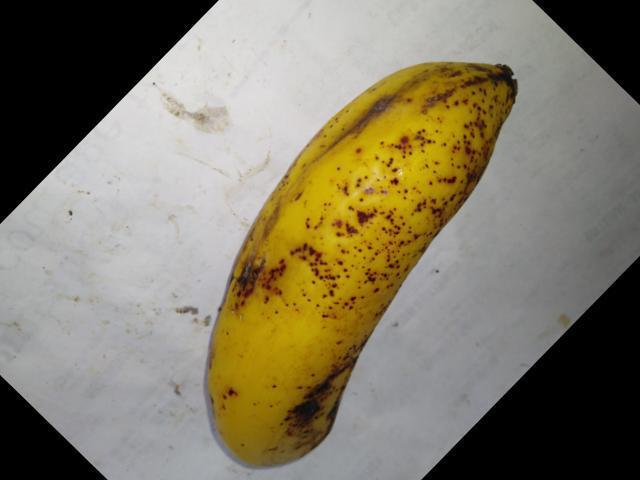rotten: (277, 338, 413, 460), (292, 56, 444, 163), (209, 226, 303, 311)
